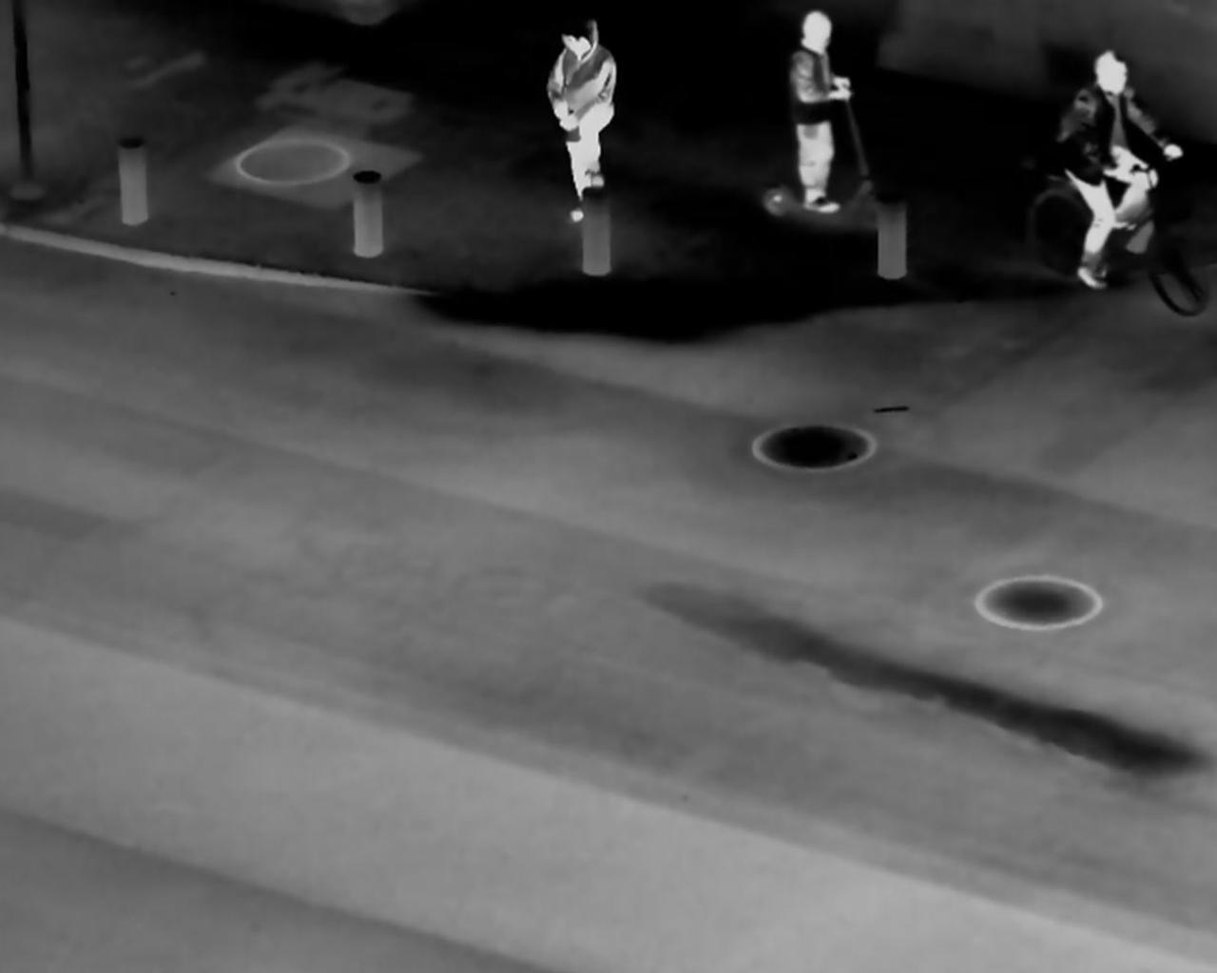person: (1057, 44, 1186, 300), (779, 9, 866, 227), (538, 20, 629, 227)
